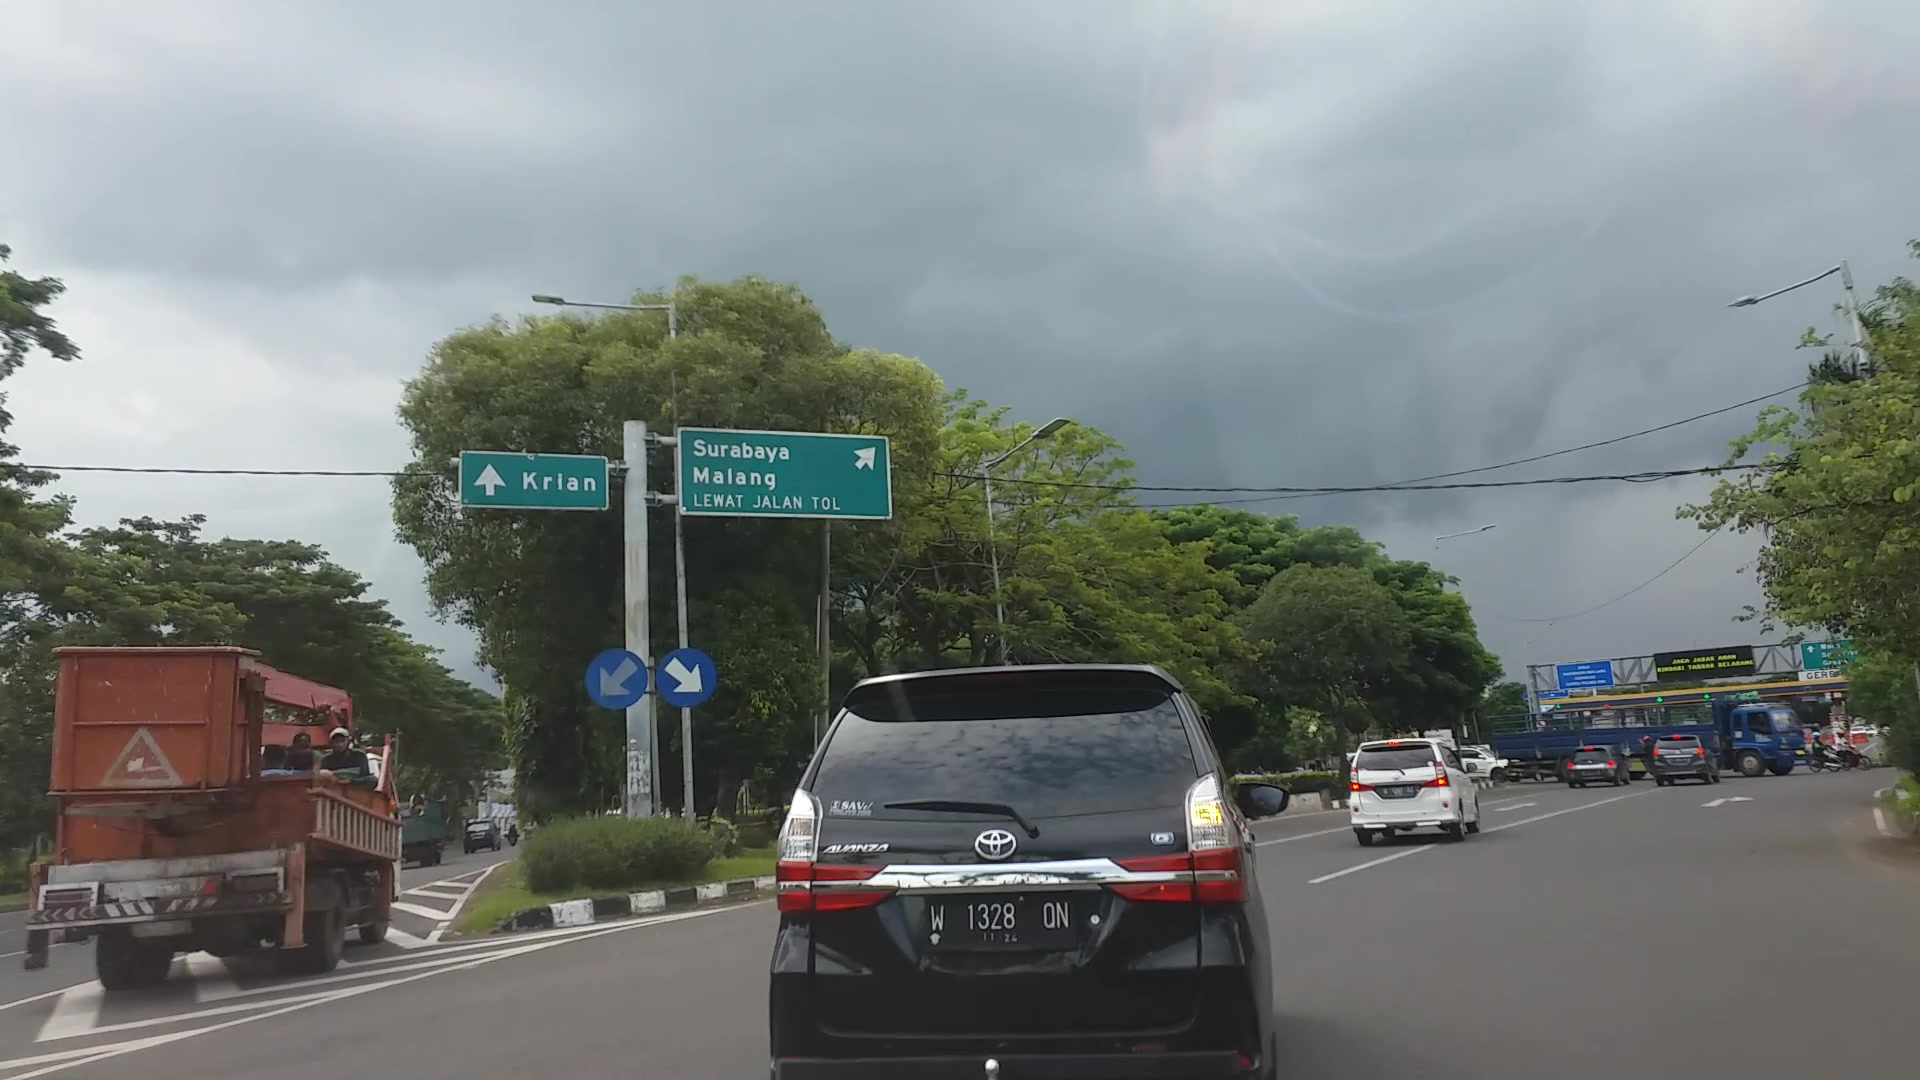plate_positive: (926, 894, 1076, 949)
